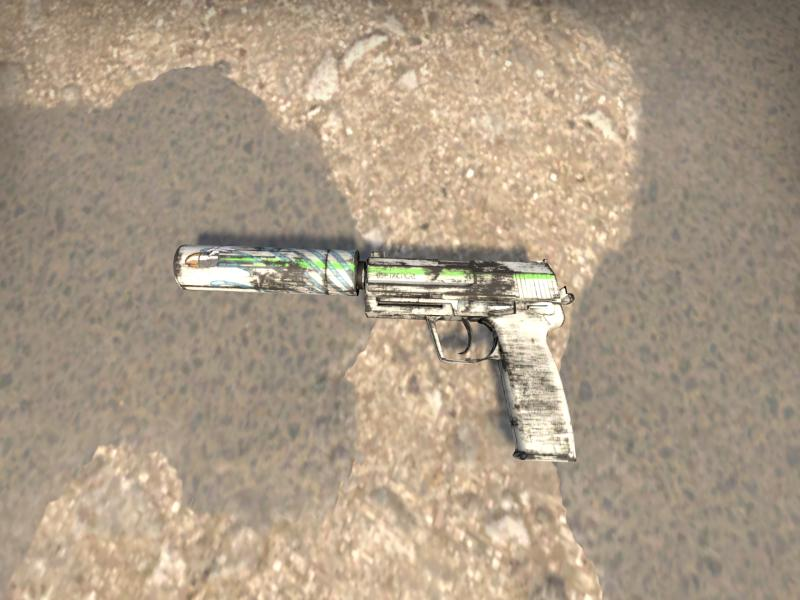USP: (173, 244, 576, 462)
